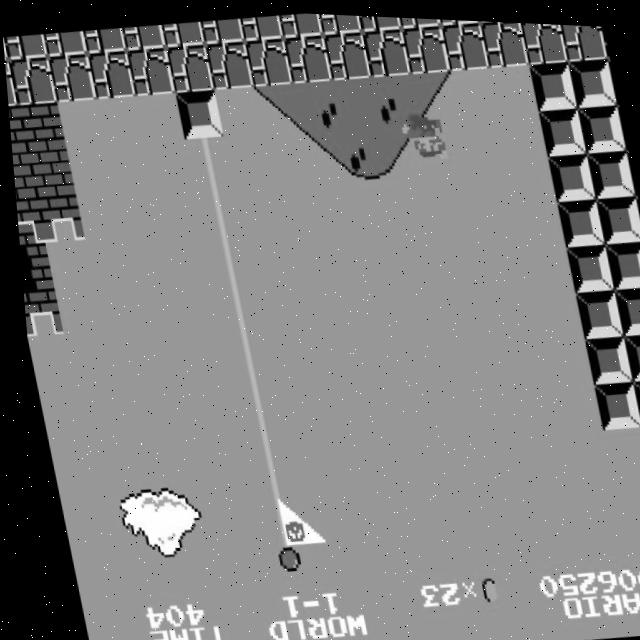11- little_mario: (396, 107, 449, 162)
17- undestructible_block: (400, 19, 450, 72), (321, 26, 371, 79), (85, 47, 135, 100), (6, 54, 56, 107), (282, 30, 332, 82), (203, 37, 253, 89), (243, 33, 292, 86), (164, 40, 213, 93), (46, 50, 95, 103), (440, 16, 489, 68), (361, 23, 410, 75), (125, 44, 174, 96), (479, 17, 528, 64), (519, 18, 568, 61), (559, 20, 607, 58), (199, 14, 244, 44), (160, 18, 205, 48), (42, 28, 87, 58), (121, 21, 165, 51), (3, 32, 47, 62), (81, 25, 126, 54), (239, 11, 283, 40), (278, 10, 323, 36), (318, 11, 362, 34), (357, 12, 401, 30), (397, 14, 441, 26), (437, 15, 480, 23), (599, 21, 609, 53)
7- goal_pole: (240, 451, 290, 503), (206, 269, 256, 321), (249, 496, 298, 549), (224, 359, 273, 412), (198, 222, 247, 275), (189, 178, 239, 229), (257, 542, 306, 594), (215, 314, 264, 366), (181, 132, 230, 184), (232, 406, 281, 457)
9- hard_block: (569, 282, 619, 335), (583, 143, 633, 195), (575, 96, 624, 149), (567, 51, 616, 104), (578, 328, 627, 381), (553, 191, 602, 244), (536, 100, 585, 153), (586, 374, 635, 426), (544, 146, 593, 198), (527, 55, 576, 107), (173, 86, 222, 138), (561, 238, 610, 289), (592, 188, 640, 240), (600, 234, 640, 286), (609, 279, 640, 331), (617, 324, 640, 376), (625, 370, 640, 421), (607, 53, 618, 99), (624, 145, 634, 190), (616, 99, 626, 144), (632, 190, 640, 236)
